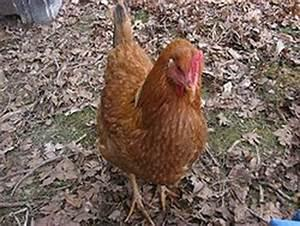hen: (94, 0, 209, 225)
